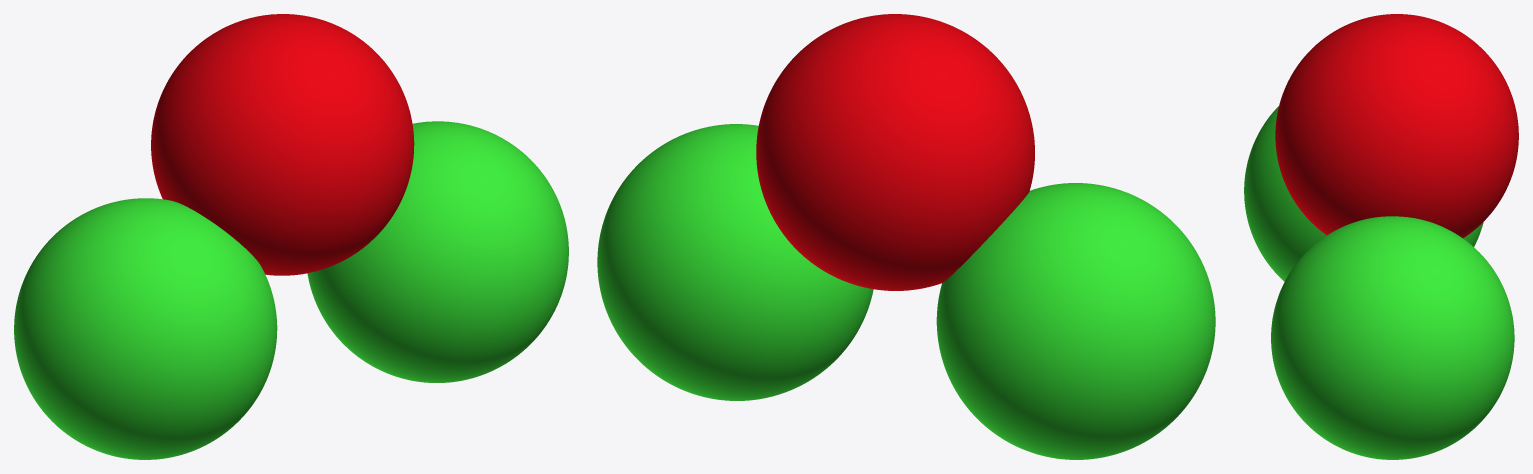
File: famas.glb
The picture shows the model from 3 angles, left to right: view 1: azimuth 30°, elevation 25°; view 2: azimuth 150°, elevation 25°; view 3: azimuth 270°, elevation 25°; orthographic projection. The views are drawn at different scales.
Visible parts, largest first — view 1: Esfera; view 2: Esfera; view 3: Esfera.
Boxes of the visible parts, <box> form: Esfera: <box>14,14,568,459</box>; Esfera: <box>597,14,1215,459</box>; Esfera: <box>1244,14,1518,459</box>.
Size of the model in its own units: 4.65 by 3.15 by 2.22.
